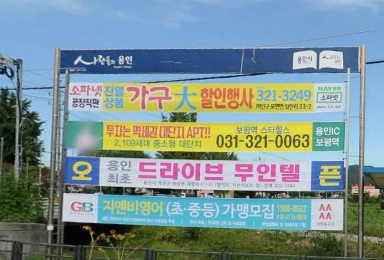banner: (51, 194, 350, 232), (52, 155, 358, 192), (58, 78, 356, 115), (47, 117, 356, 152)
